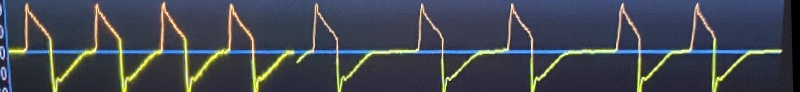normal_flow: (1, 0, 785, 92)
